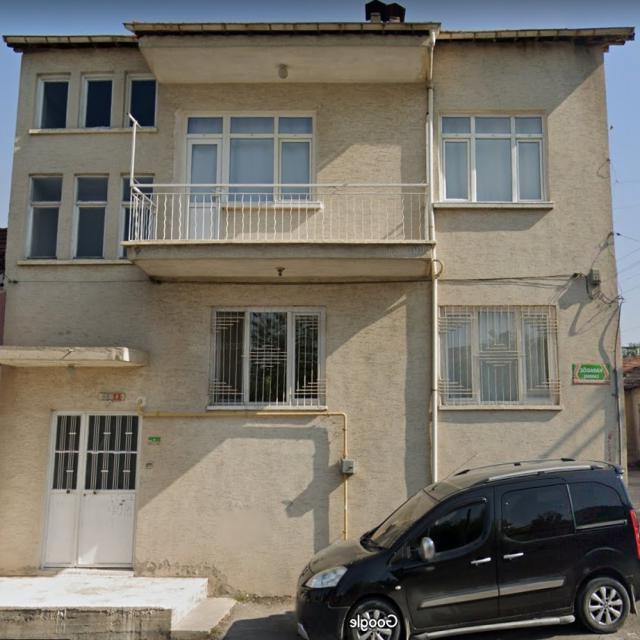Building: (0, 19, 635, 598)
